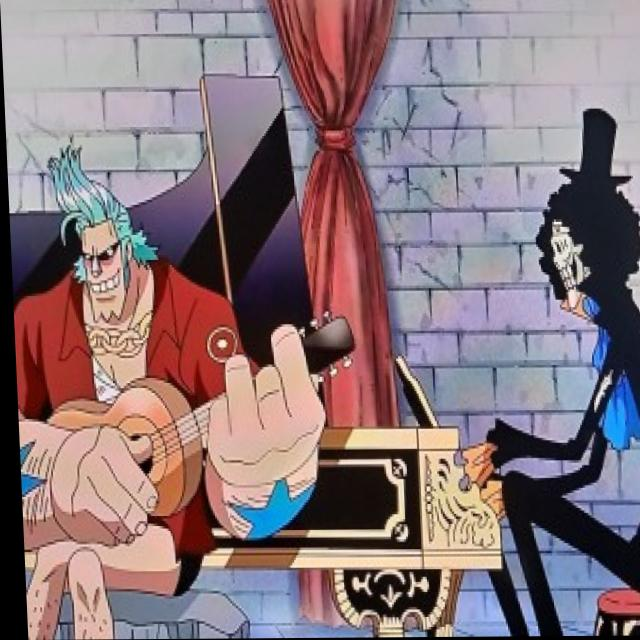Blook: (524, 102, 640, 321)
Franky: (32, 132, 146, 331)
